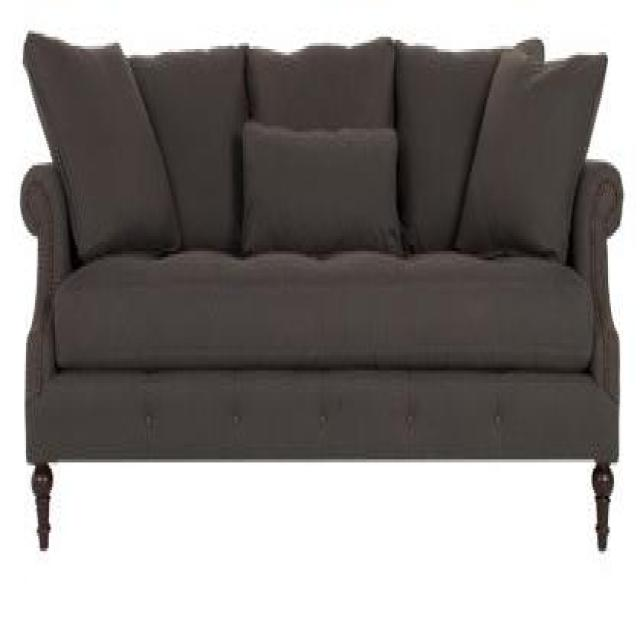sofa: (17, 56, 624, 555)
